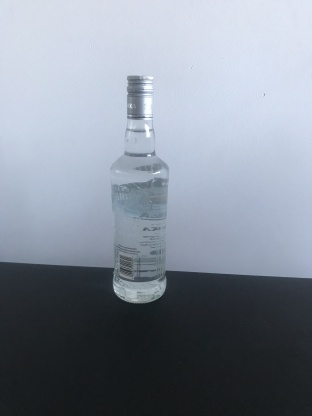nakretka: (125, 71, 155, 120)
